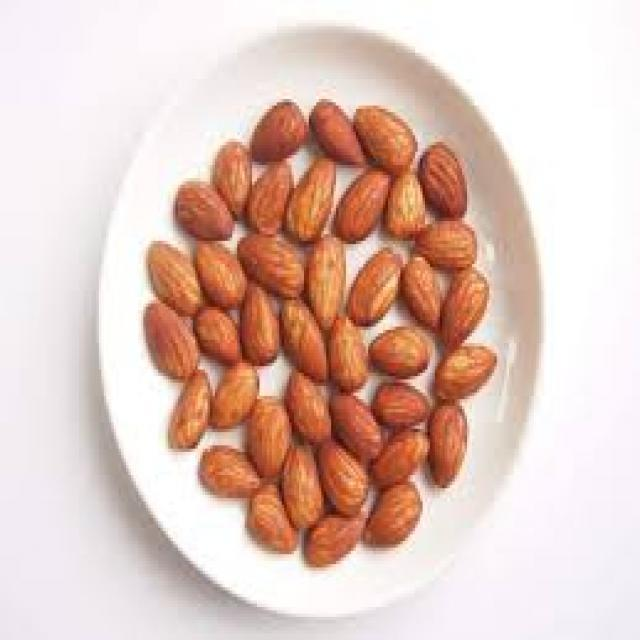almond: (441, 266, 493, 361), (142, 301, 200, 382), (236, 232, 306, 297), (335, 167, 394, 244), (348, 244, 401, 328), (354, 104, 417, 174), (286, 156, 336, 244), (281, 294, 329, 384), (244, 100, 310, 163), (147, 240, 203, 314), (305, 235, 348, 331), (320, 442, 372, 518), (417, 142, 469, 218), (426, 401, 472, 486), (329, 392, 385, 461), (364, 484, 425, 547), (280, 444, 325, 529), (249, 396, 292, 484), (370, 426, 434, 485), (310, 99, 366, 166), (166, 370, 213, 449), (174, 180, 235, 240), (247, 485, 300, 553), (238, 281, 280, 366), (198, 445, 265, 498), (437, 345, 497, 404), (195, 240, 248, 306), (286, 367, 332, 443), (302, 511, 365, 566), (247, 159, 293, 234), (327, 313, 370, 392), (207, 363, 259, 428), (212, 140, 254, 217), (399, 257, 440, 332), (370, 327, 431, 376), (195, 306, 243, 367), (418, 220, 479, 268), (385, 169, 427, 237), (373, 384, 430, 428)
